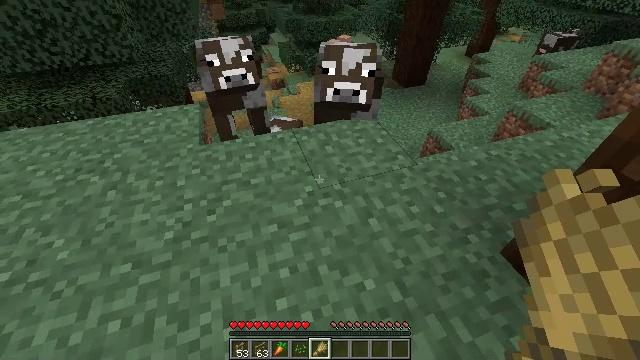cow: (196, 35, 269, 137), (316, 41, 382, 125), (535, 27, 581, 57)
